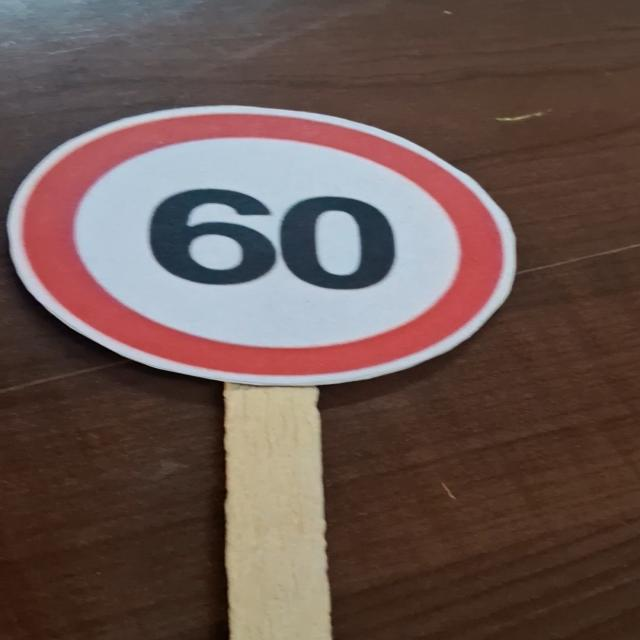Speed60: (0, 98, 525, 390)
